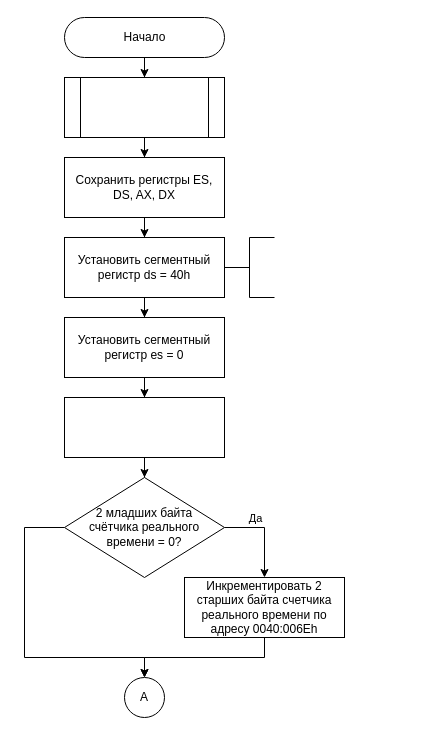
Image size: 446x735. Some labels were removed from this diagram. The shapes that lost their labels are listed below. From the top down, each one's centre as x and y in pixels, then its label:
point (144, 107): Вызвать подпрограмму sub_4
point (249, 267): 40h - область данных BIOS
point (144, 427): Инкрементировать 2 младших байта счетчика реального времени по адресу 0040:006Ch
